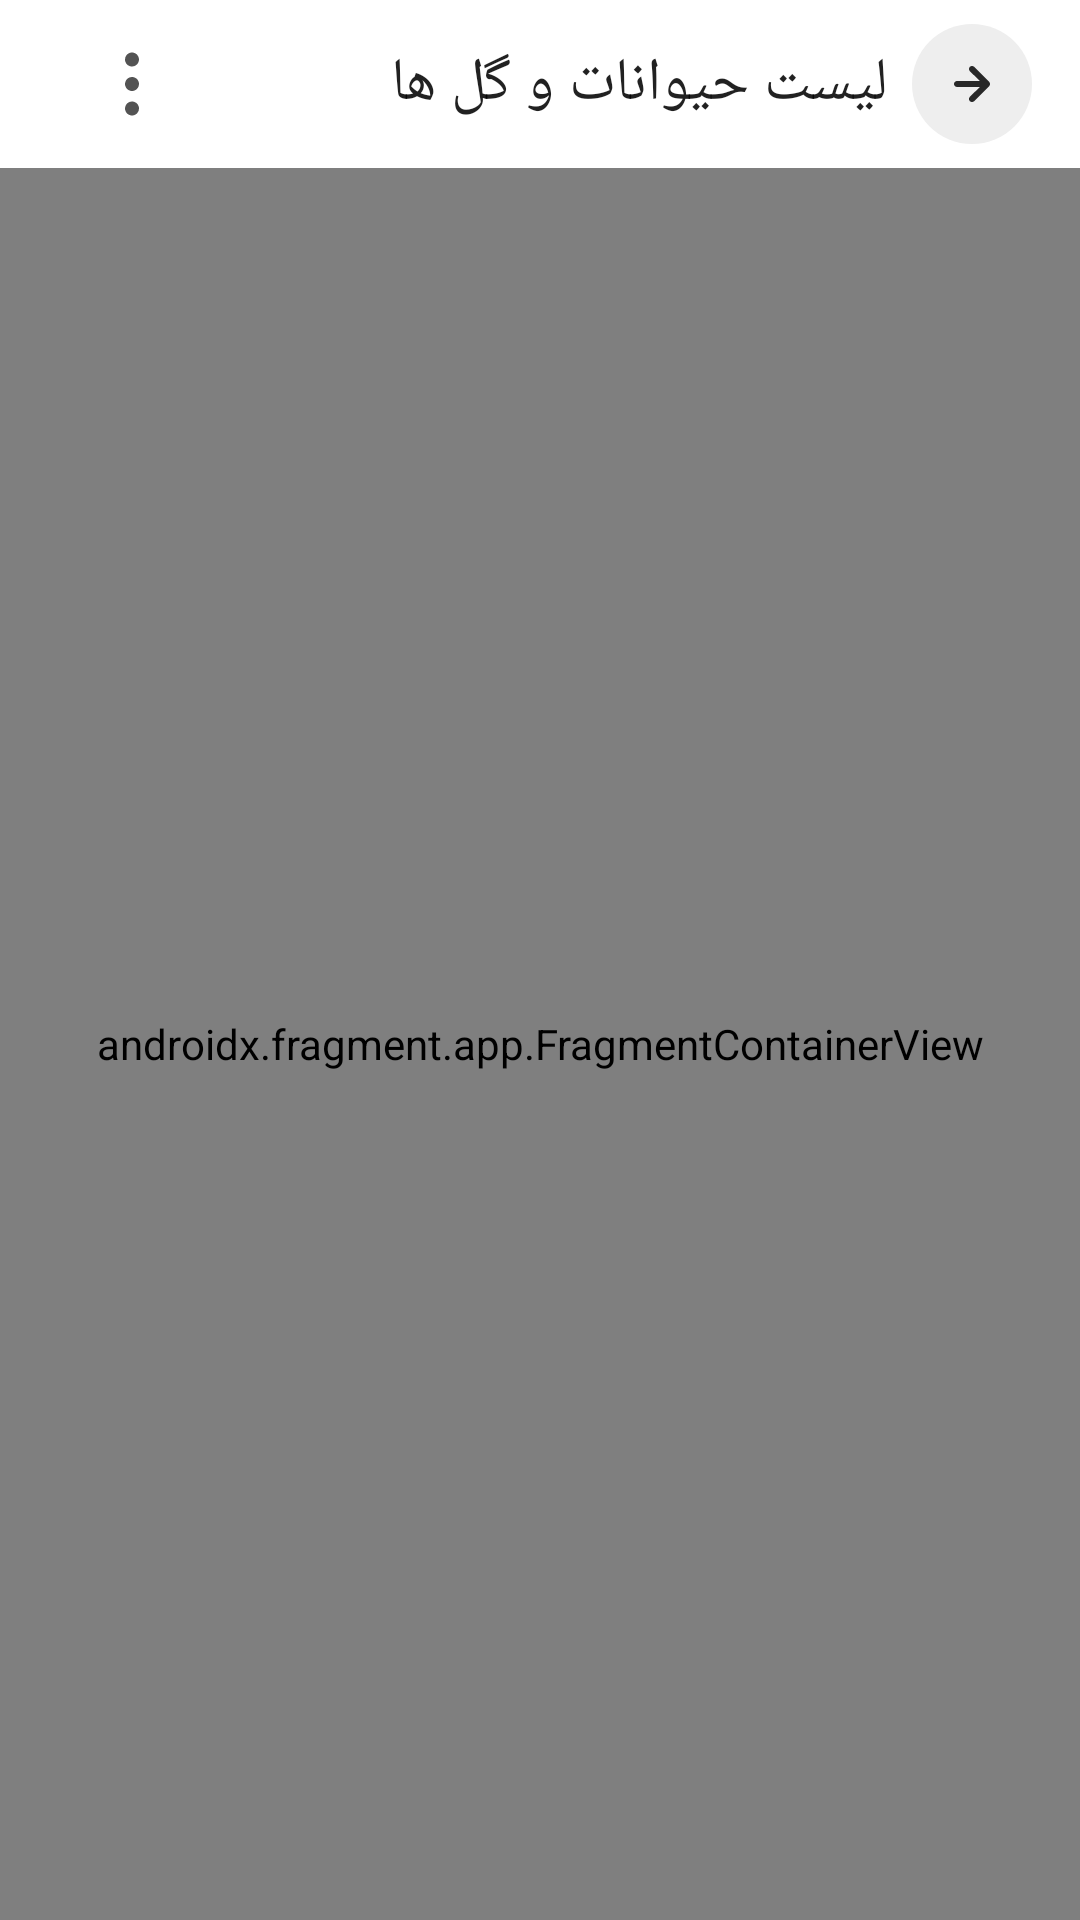

Where icons sit on this 1080x1920 app screen, as (x1, y1, x2, y2):
back: (912, 24, 1032, 144)
option menu: (125, 52, 139, 116)
